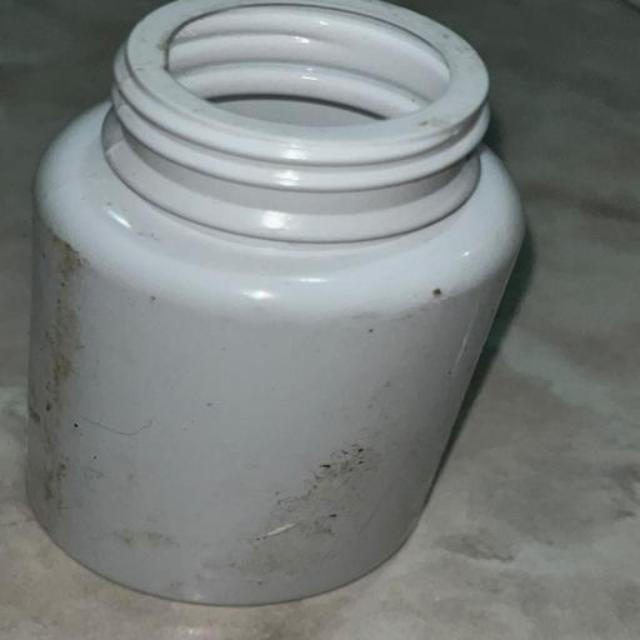HDPE: (18, 9, 624, 594)
